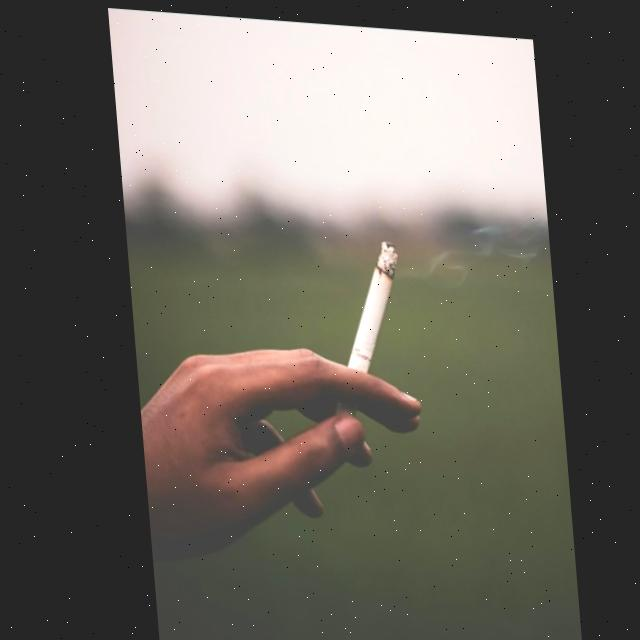cigarette: (333, 232, 401, 371)
